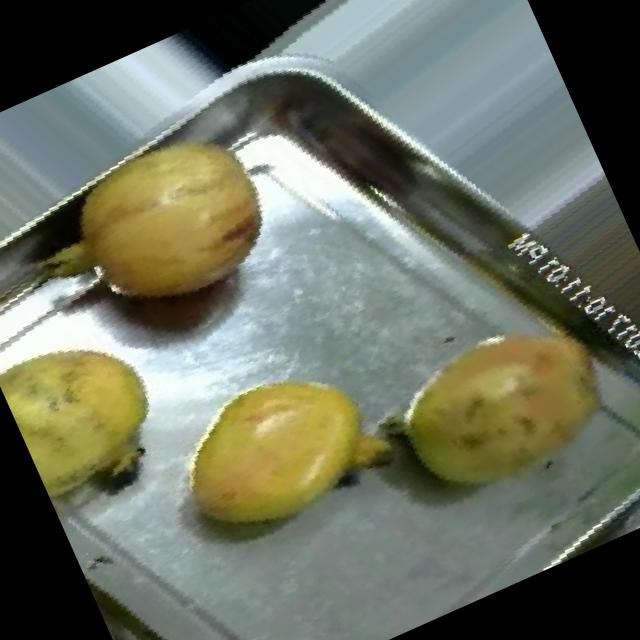fruit: (338, 262, 640, 554), (7, 81, 320, 362), (130, 318, 428, 582), (0, 297, 199, 523)
